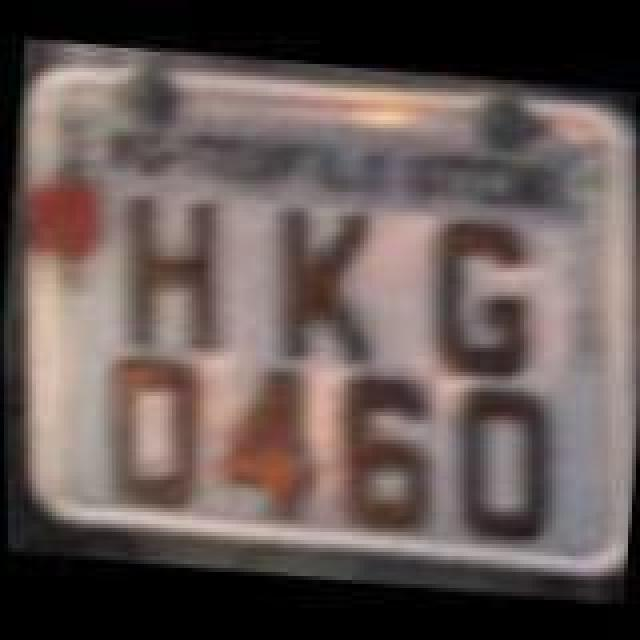4: (214, 356, 330, 516)
6: (326, 368, 450, 540)
G: (420, 214, 544, 382)
H: (112, 182, 236, 366)
K: (264, 194, 396, 366)
O: (440, 378, 560, 542), (96, 348, 216, 504)
